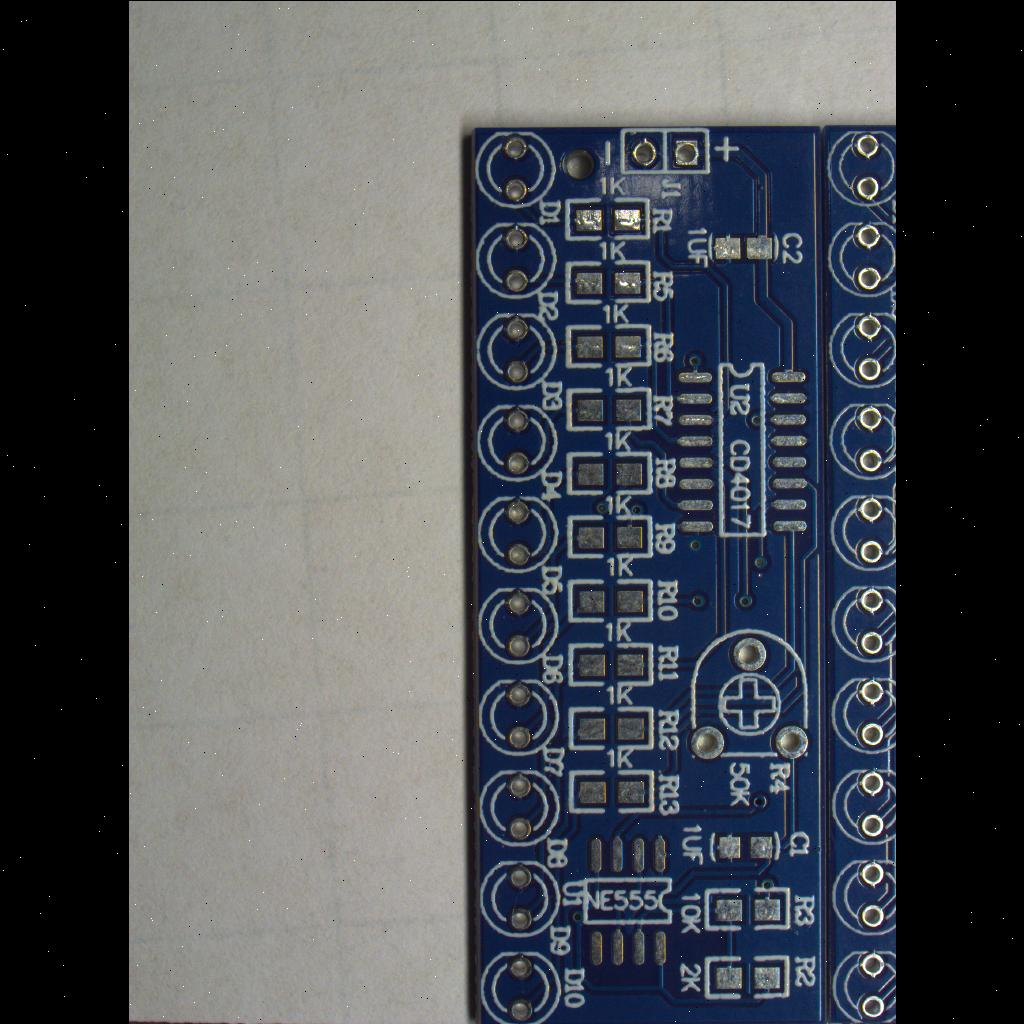NG: (666, 352, 816, 548), (574, 825, 680, 975), (562, 572, 658, 628), (564, 698, 658, 754), (702, 951, 796, 1005), (564, 636, 656, 690), (563, 379, 655, 433), (563, 510, 655, 564), (565, 762, 657, 816), (562, 318, 654, 370), (563, 444, 655, 496), (562, 256, 652, 306), (704, 882, 794, 932), (563, 194, 649, 242), (703, 826, 783, 870), (704, 226, 782, 266)
